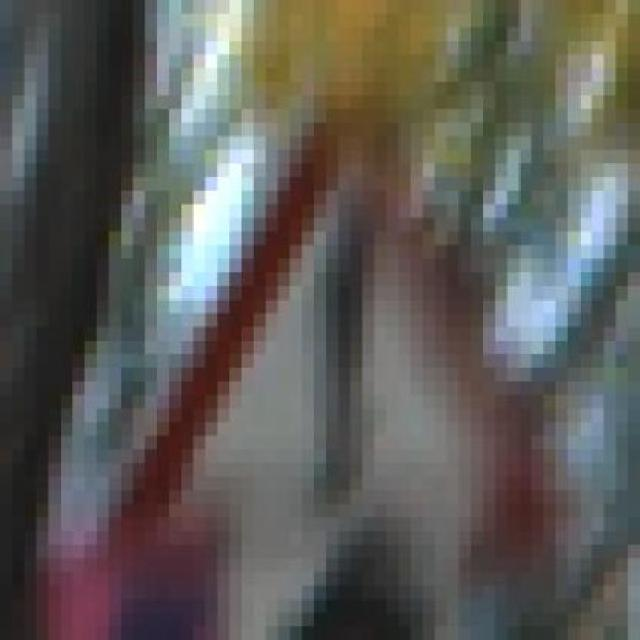Attention Please-: (97, 137, 568, 586)
